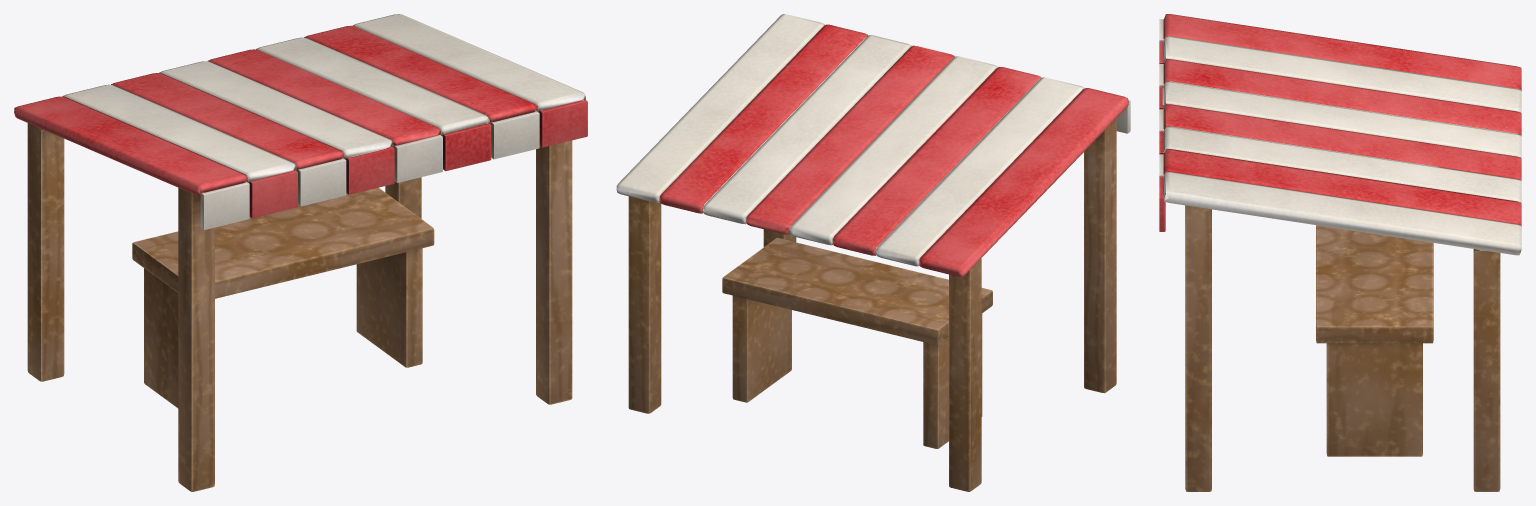
The model's file is Desert_Auvent.fbx.
The picture shows the model from 3 angles, left to right: view 1: azimuth 30°, elevation 25°; view 2: azimuth 150°, elevation 25°; view 3: azimuth 270°, elevation 25°; orthographic projection. The views are drawn at different scales.
Visible parts, largest first — view 1: Desert_Auvent; view 2: Desert_Auvent; view 3: Desert_Auvent.
Part boxes in pixels (<box>): Desert_Auvent: <box>14,14,587,491</box>; Desert_Auvent: <box>616,14,1130,491</box>; Desert_Auvent: <box>1159,14,1521,491</box>.
Size of the model in its own units: 802 by 621 by 679.
1 material, 1 textured.
